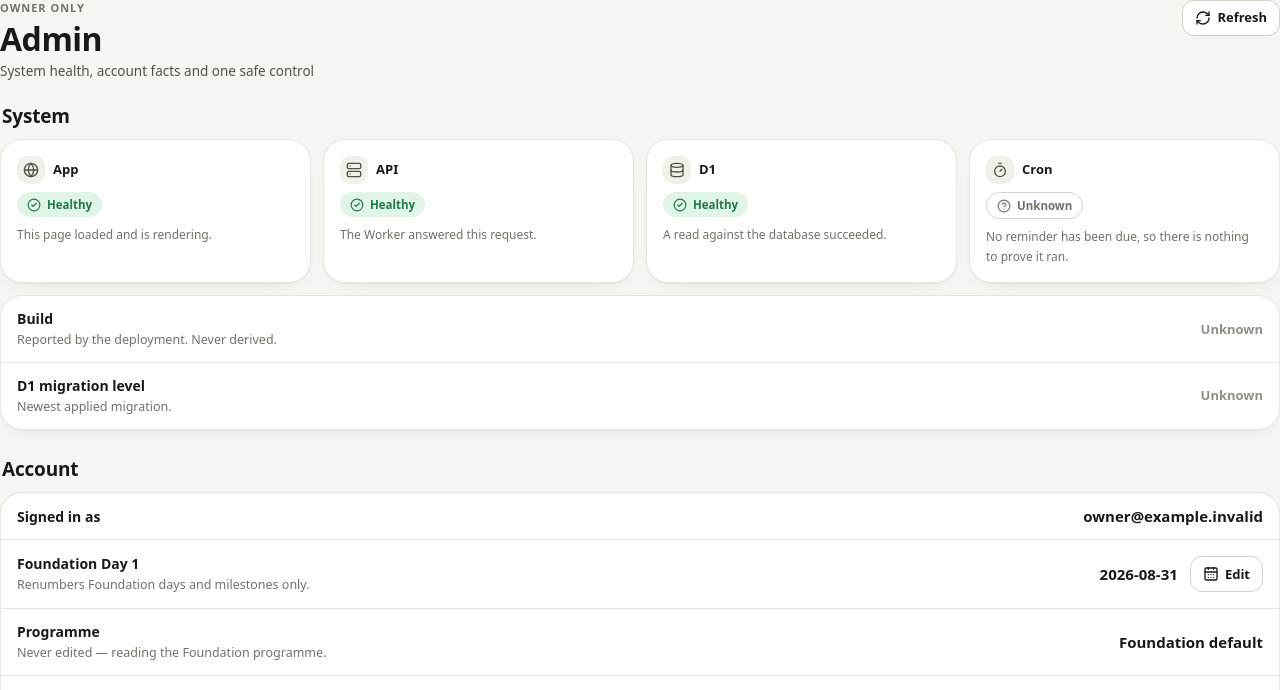
it: 4. Day 1 cannot be changed by accident › A. editing then saving asks for a confirmation, and writes NOTHING yet
Expected: the text "Foundation Day 1" is shown, left=17, top=554, right=139, bottom=574
Click the button "Edit" at x=1226, y=574, box left=1190, top=556, right=1263, bottom=592
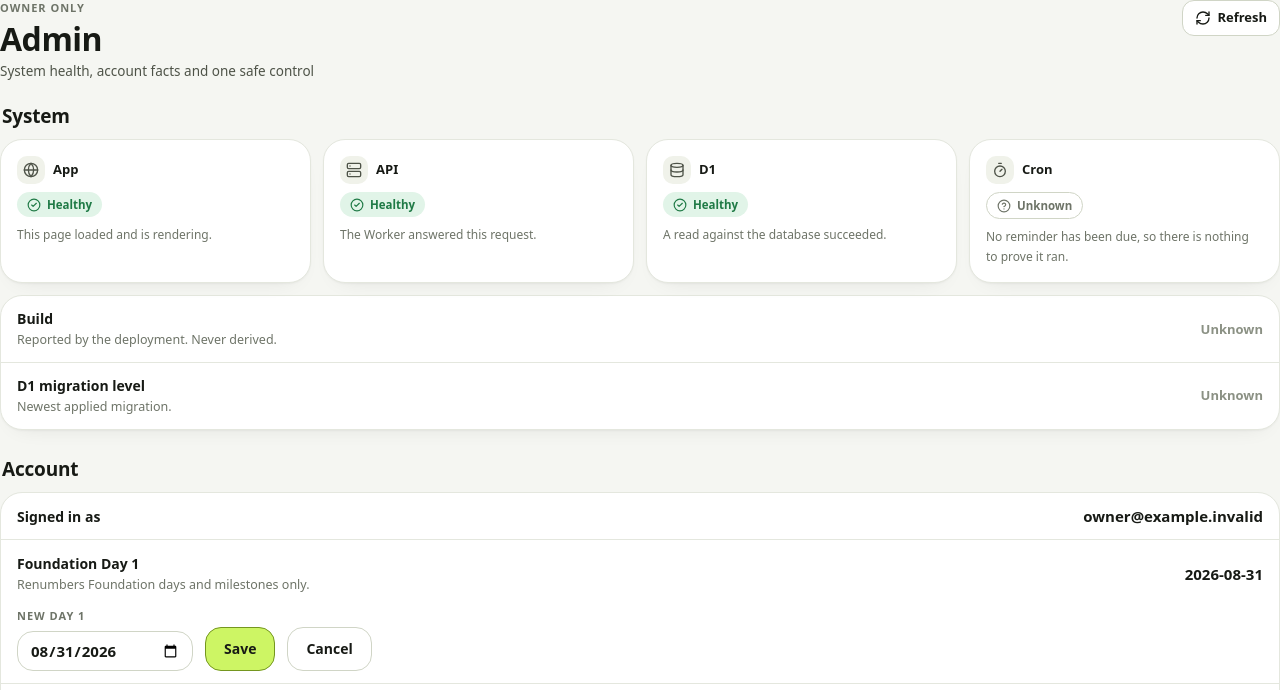
Type "2026-09-14" into the date field labelled "New Day 1" at x=105, y=651, box left=17, top=631, right=193, bottom=671
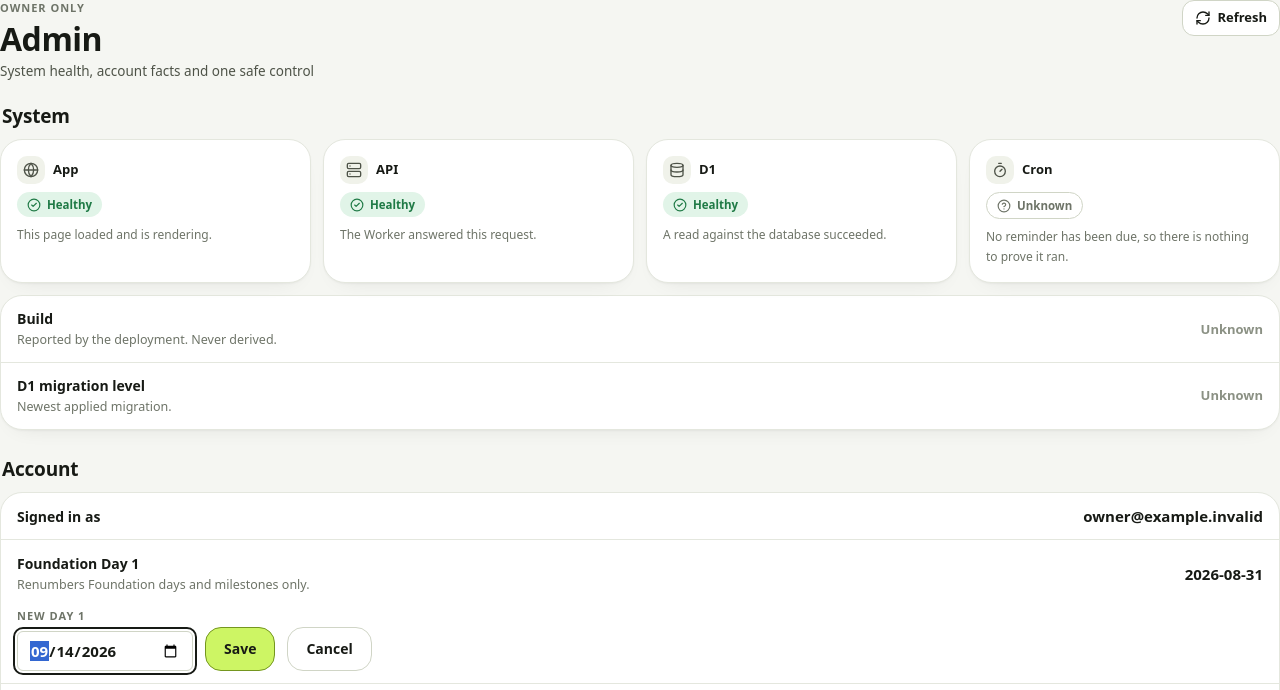
Click the button "Save" at x=240, y=649, box left=205, top=627, right=275, bottom=671
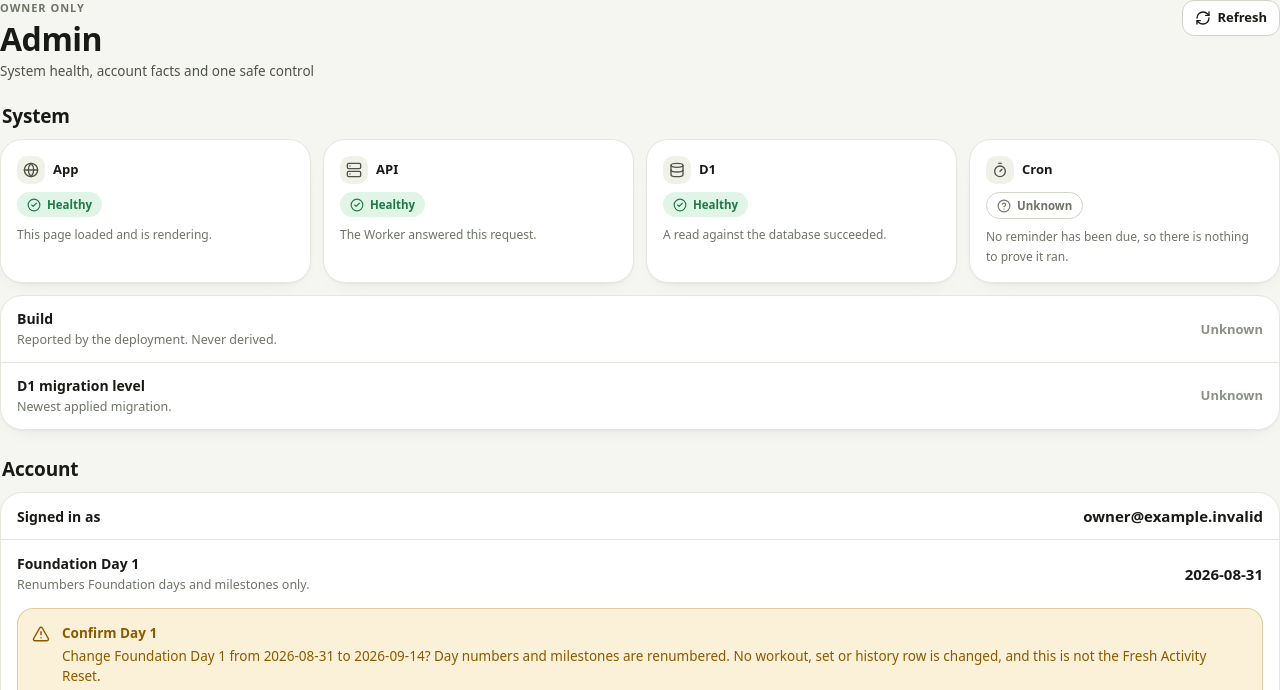
Expected: the text "Confirm Day 1" is shown, left=62, top=624, right=157, bottom=642
Expected: the text "Change Foundation Day 1 from 2026-08-31 to 2026-09-14" is shown, left=62, top=647, right=430, bottom=665
Expected: the text "this is not the Fresh Activity Reset" is shown, left=62, top=647, right=1206, bottom=685
